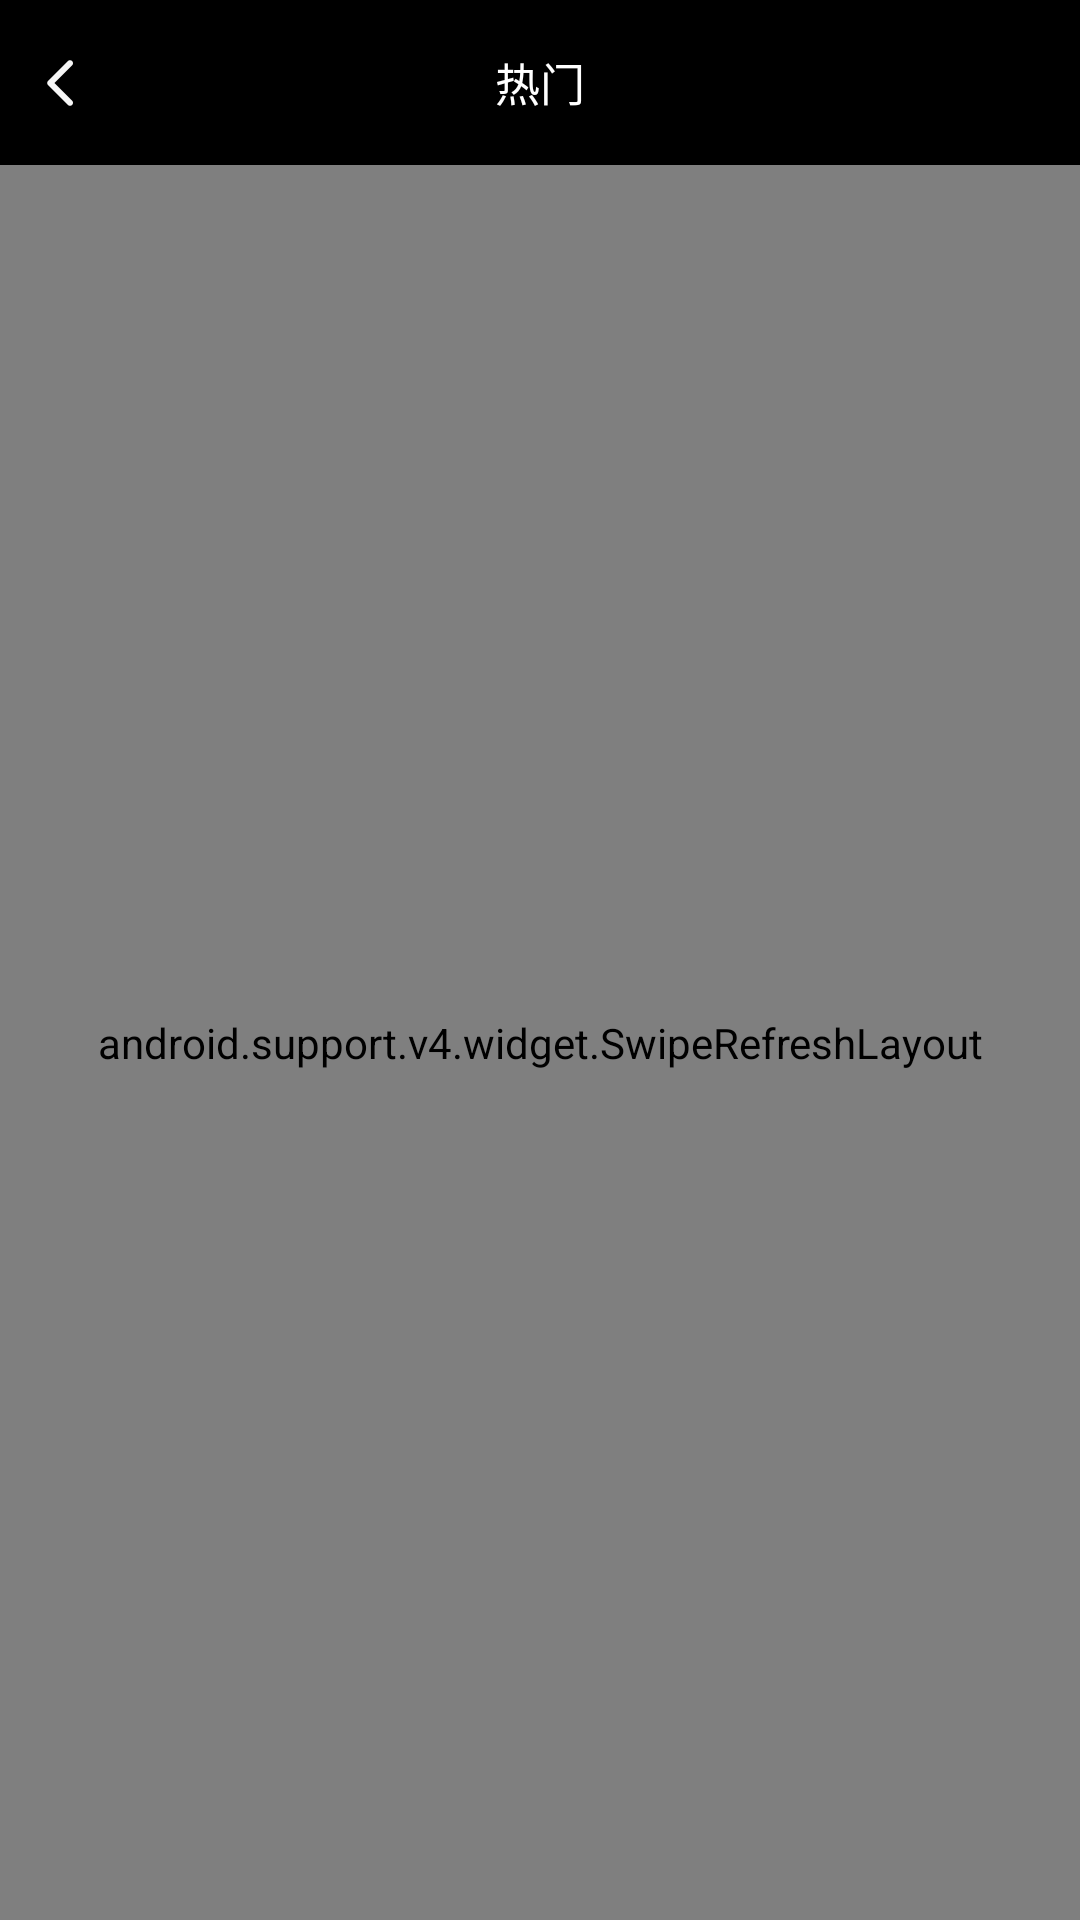

Icons on this 1080 x 1920 Android screen, each with its box as region(x1, y1, x2, y2):
back: region(47, 60, 73, 106)
